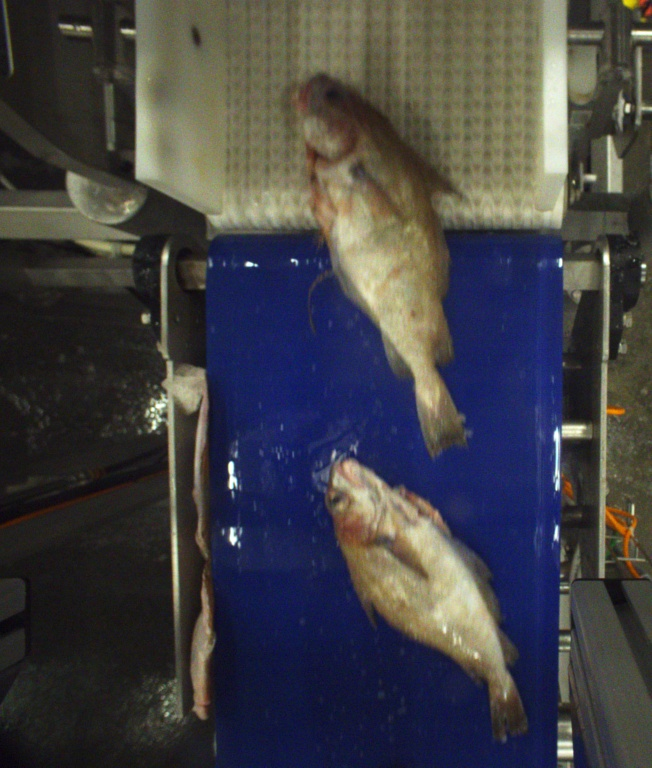BIB: (291, 73, 467, 457)
